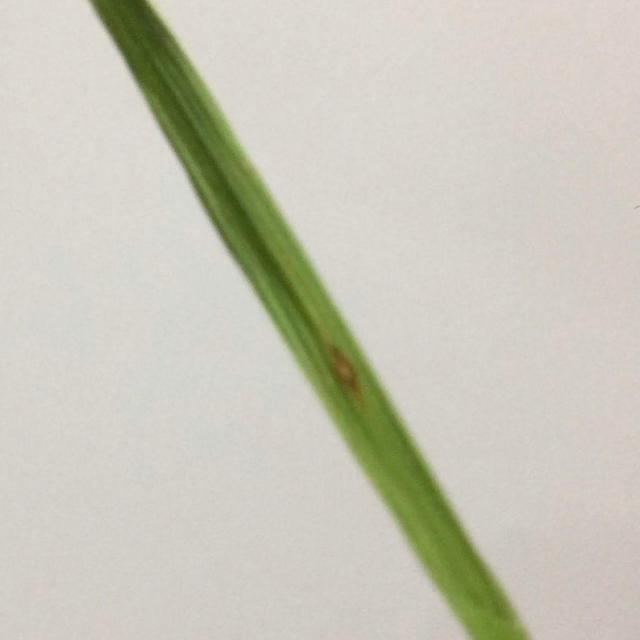Leaf_Blast: (302, 303, 421, 459)
